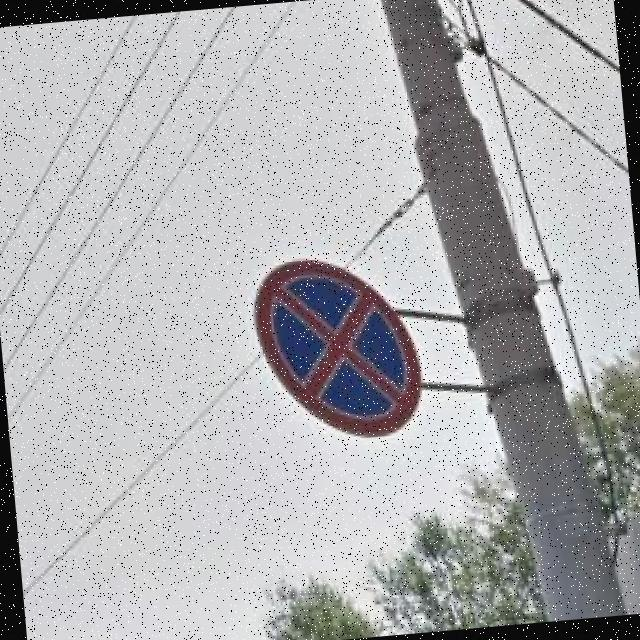Zakaz zatrzymywania sie: (246, 246, 424, 444)
